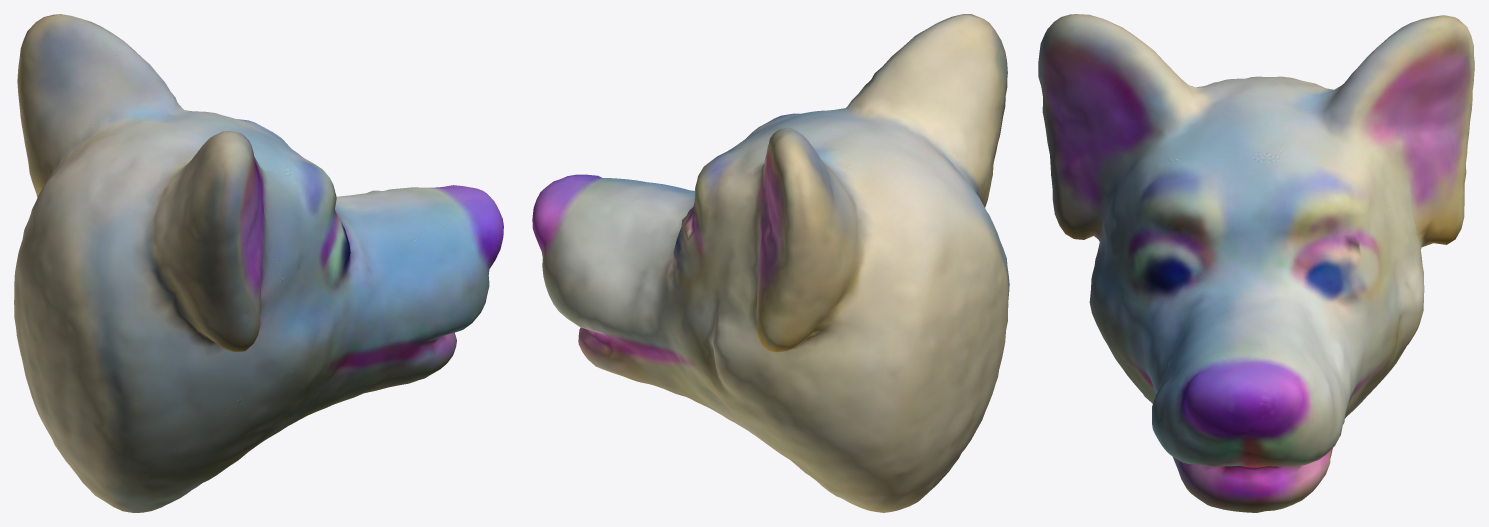
File: 029_Create_dog_with_Oval_face_with_intense_eyes_short_hair_0614161233_preview.obj
3 views of the same model, side by side, from view 1: azimuth 30°, elevation 25°; view 2: azimuth 150°, elevation 25°; view 3: azimuth 270°, elevation 25° (orthographic). The views are drawn at different scales.
Visible parts, largest first — view 1: Mesh1; view 2: Mesh1; view 3: Mesh1.
Boxes of the visible parts, x1=… form: Mesh1: x1=14, y1=14, x2=503, y2=512; Mesh1: x1=532, y1=14, x2=1009, y2=512; Mesh1: x1=1038, y1=14, x2=1474, y2=512.
Size of the model in its own units: 1.2 by 1.1 by 0.9812.
Materials: 1 (1 with a texture image).
